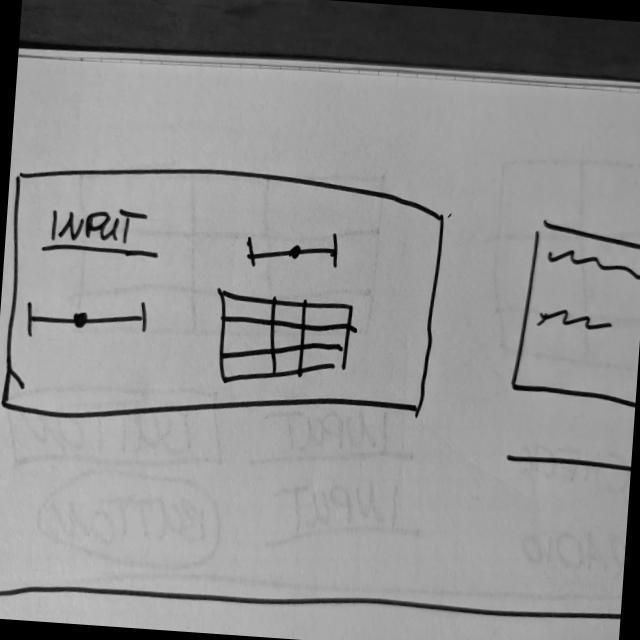container: (1, 146, 450, 445)
input: (38, 203, 164, 262)
select: (501, 422, 634, 483)
slider: (20, 290, 154, 351), (244, 225, 347, 276)
table: (211, 287, 358, 397)
textarea: (506, 218, 640, 417)
